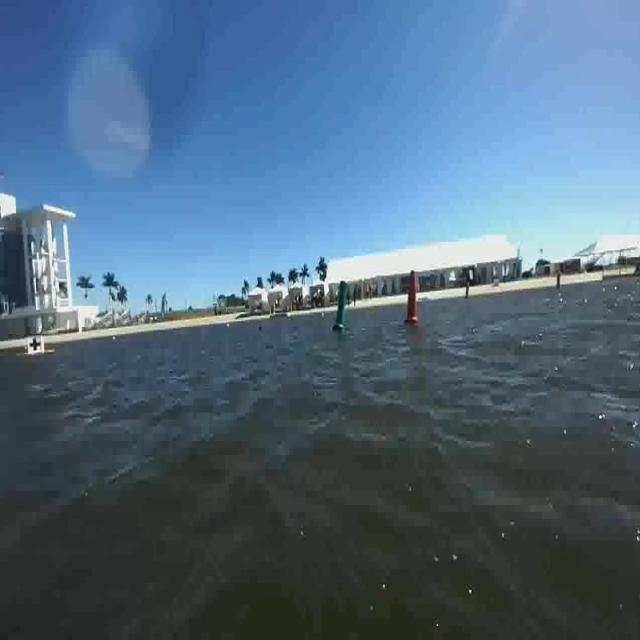green-column-buoy: (334, 278, 350, 332)
red-column-buoy: (405, 268, 422, 325)
